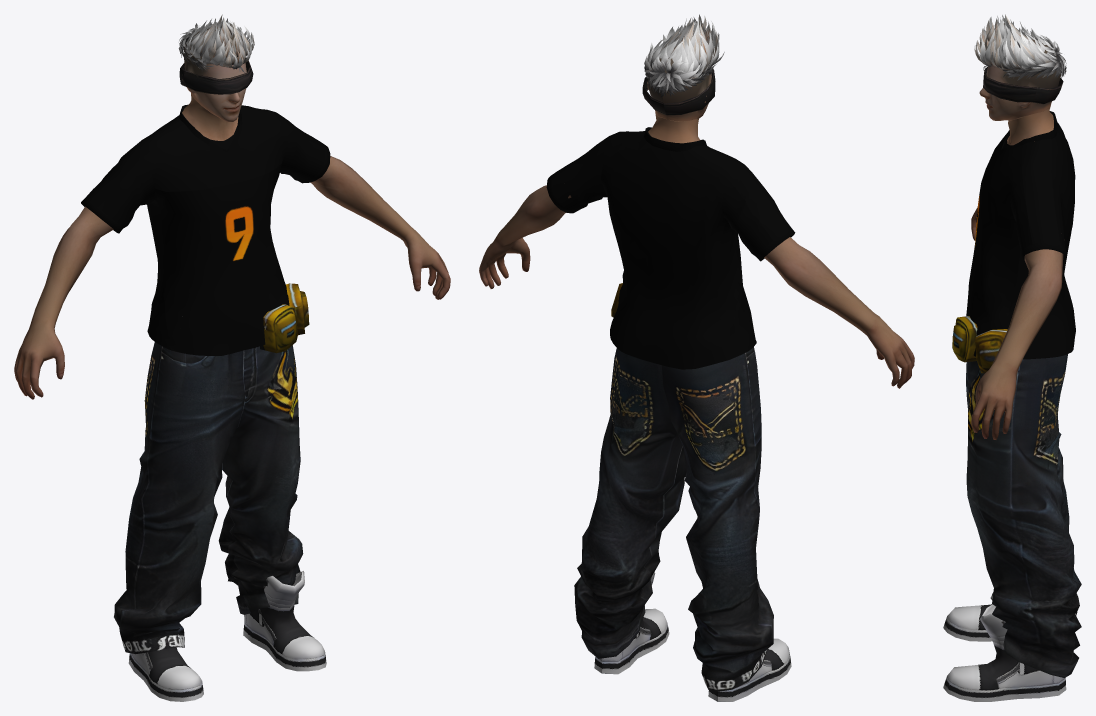
Rendered from football blast.glb.
3 renders of one model, left to right at view 1: azimuth 30°, elevation 25°; view 2: azimuth 150°, elevation 25°; view 3: azimuth 270°, elevation 25°, orthographic.
Parts seen in each view (by area): view 1: football blast; view 2: football blast; view 3: football blast.
Boxes of the visible parts, x1,y1,x2,y2 form: football blast: [14, 14, 450, 701]; football blast: [479, 14, 914, 701]; football blast: [943, 14, 1081, 701].
Size of the model in its own units: 0.6312 by 0.9237 by 0.1795.
Materials: 7 (7 with a texture image).
